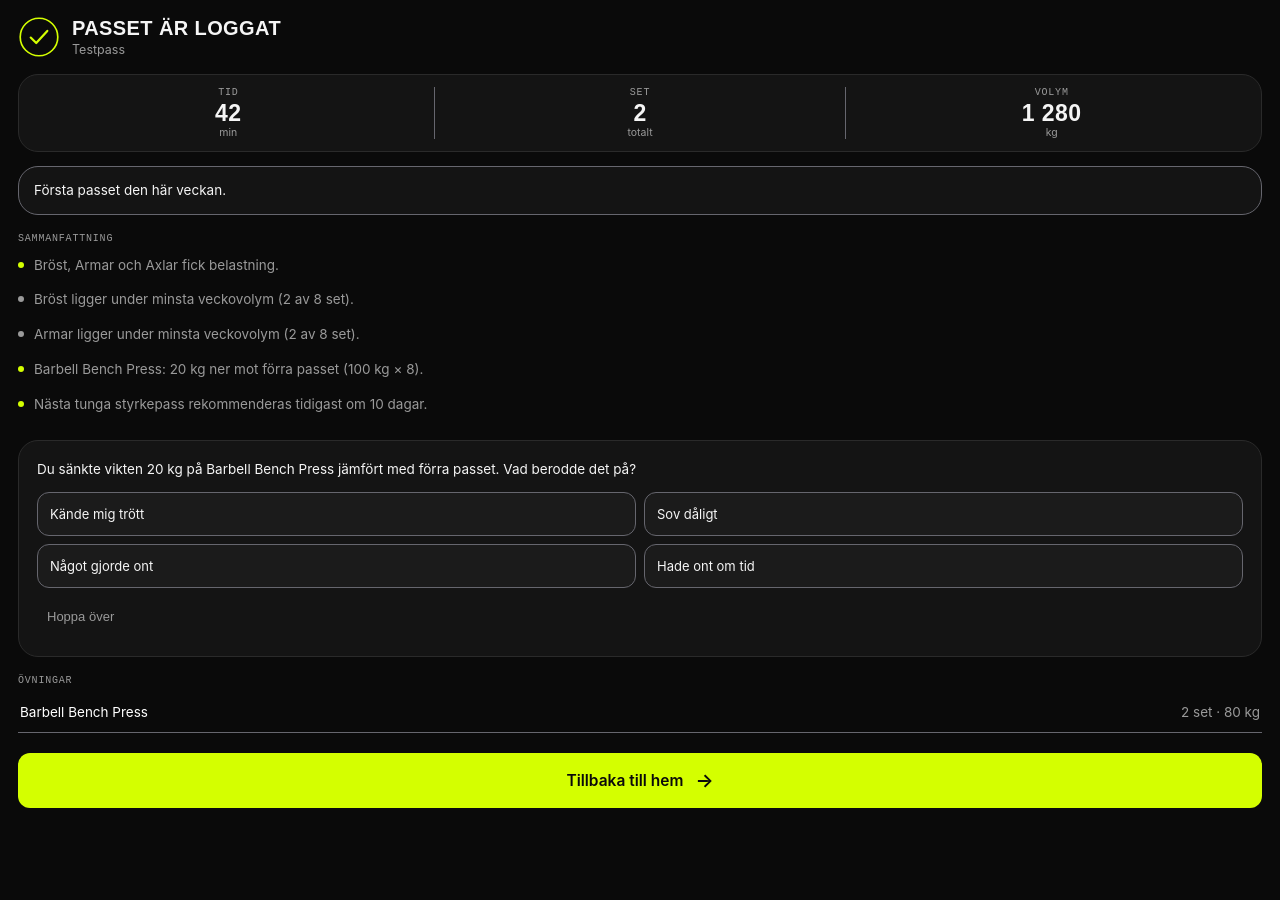
rendering — arket och kvittot › kvittot ställer frågan och sparar svaret först när användaren väljer
What coordinates should you click on to do the following:
click the button "Sov dåligt"
I would click on:
 (687, 514)
Its box is x1=644 y1=492 x2=1243 y2=536.
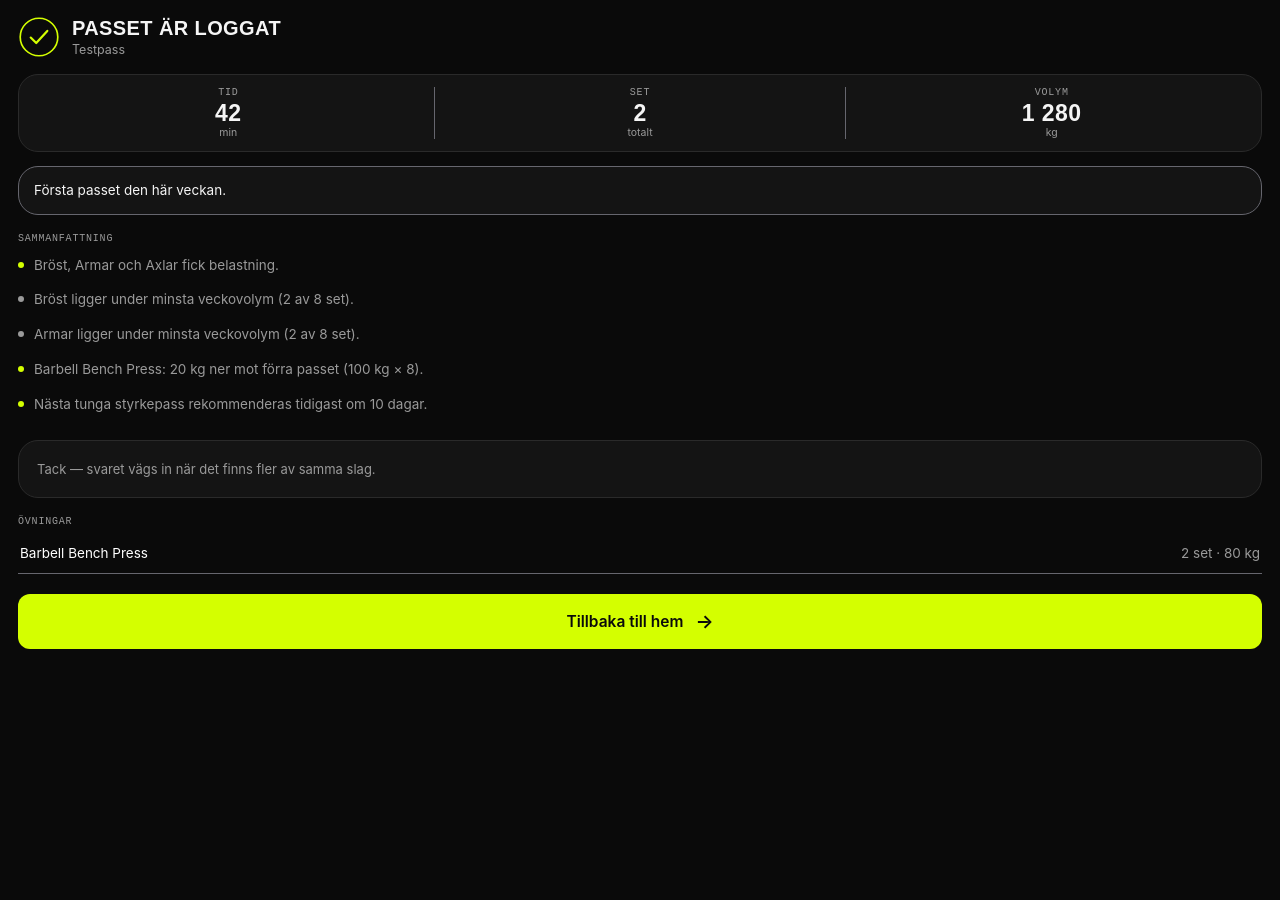
Result: the text "Tack" is shown at x1=37 y1=461 x2=376 y2=477
